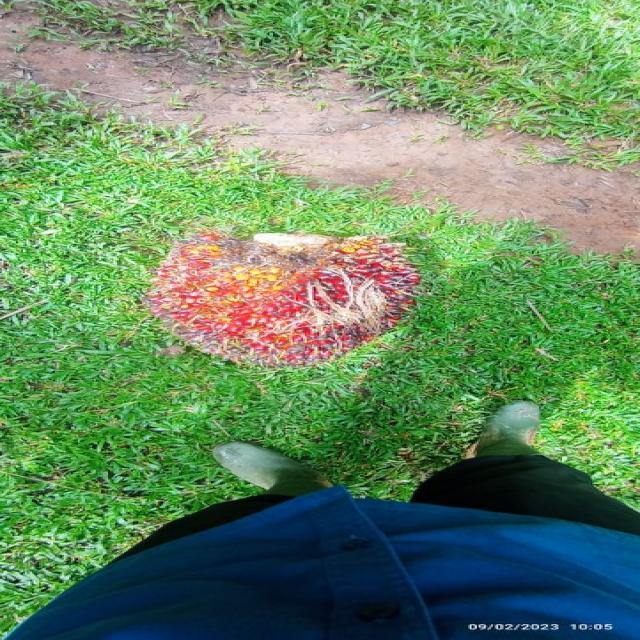fraksi 3: (120, 212, 428, 380)
